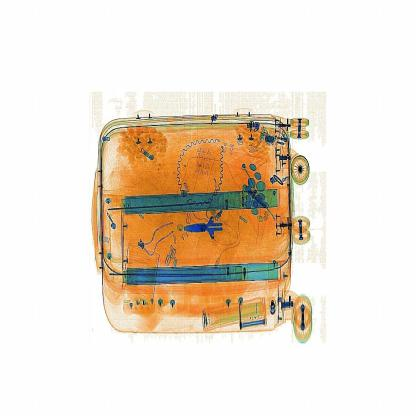gun: (185, 203, 238, 254)
